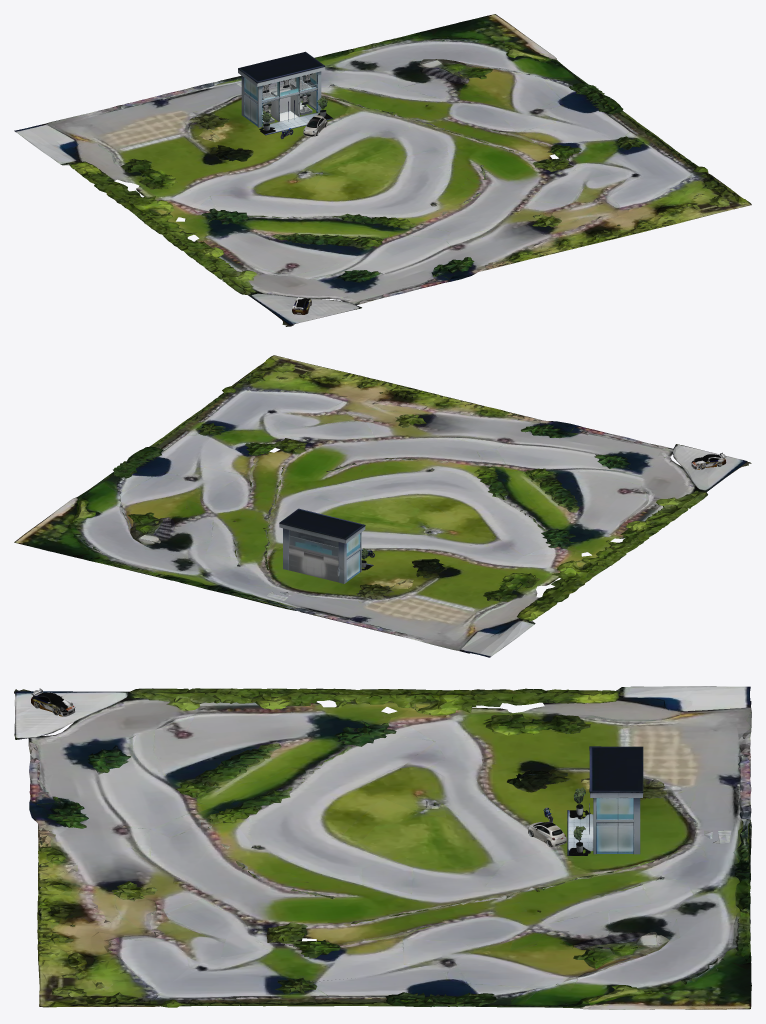
Rendered from CIRCUITOARTE333.glb.
The picture shows the model from 3 angles, top to bottom: view 1: azimuth 30°, elevation 25°; view 2: azimuth 150°, elevation 25°; view 3: azimuth 270°, elevation 25°; orthographic projection. The views are drawn at different scales.
Visible parts, largest first — view 1: world.011, world.007; view 2: world.011, world.007; view 3: world.011, world.007, world.006, world.
Boxes of the visible parts, <box> form: world.011: <box>14,14,751,326</box>; world.007: <box>238,51,333,135</box>; world.011: <box>14,355,751,657</box>; world.007: <box>279,508,373,583</box>; world.011: <box>14,686,751,1009</box>; world.007: <box>567,746,643,855</box>; world.006: <box>31,688,75,716</box>; world: <box>528,821,566,846</box>.
Bounding box in the file's own units: 30.12 × 3.6 × 29.14.
10 materials, 10 textured.
